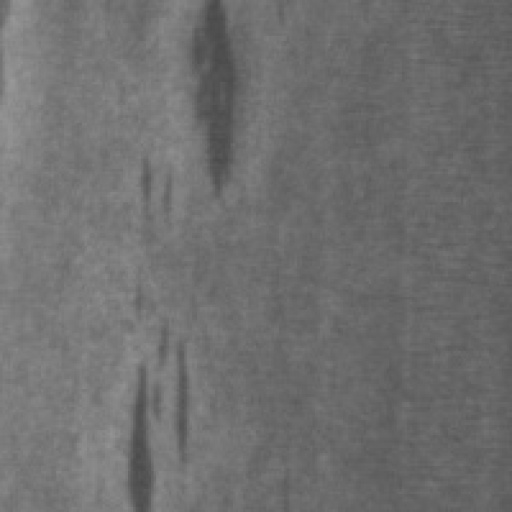inclusion: (110, 146, 196, 512), (185, 0, 243, 210)
